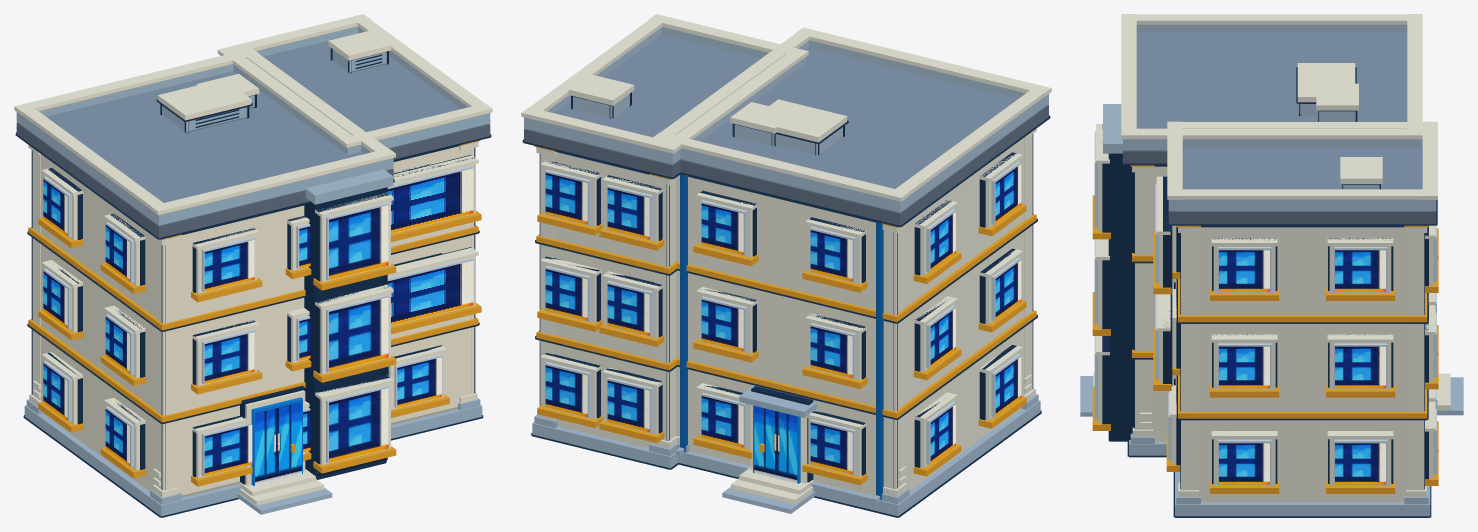
3 renders of one model, left to right at view 1: azimuth 30°, elevation 25°; view 2: azimuth 150°, elevation 25°; view 3: azimuth 270°, elevation 25°, orthographic. The views are drawn at different scales.
Visible parts, largest first — view 1: B06-03 转角双翼办公楼; view 2: B06-03 转角双翼办公楼; view 3: B06-03 转角双翼办公楼.
Boxes of the visible parts, box(x1,y1,x2,y2) form: B06-03 转角双翼办公楼: box(14, 14, 492, 517); B06-03 转角双翼办公楼: box(521, 14, 1051, 517); B06-03 转角双翼办公楼: box(1080, 14, 1463, 517).
Bounding box in the file's own units: 7.61 × 6.47 × 6.76.
2 materials, 1 textured.
